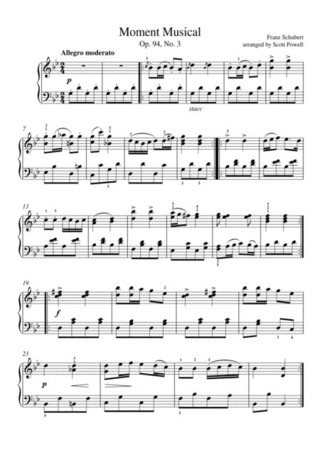Partitura: (16, 20, 310, 418)
